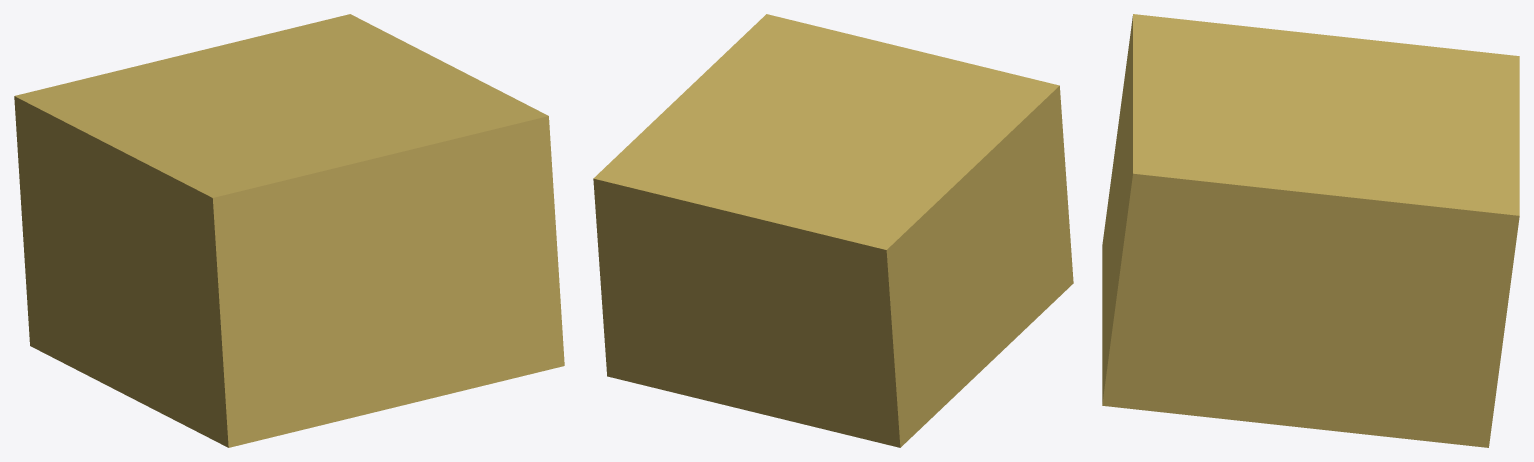
Rendered from yellow4.fbx.
3 renders of one model, left to right at view 1: azimuth 30°, elevation 25°; view 2: azimuth 150°, elevation 25°; view 3: azimuth 270°, elevation 25°, orthographic. The views are drawn at different scales.
Visible parts, largest first — view 1: Object_1; view 2: Object_1; view 3: Object_1.
Part boxes in pixels (x1=…): Object_1: x1=14, y1=14, x2=564, y2=447; Object_1: x1=593, y1=14, x2=1073, y2=447; Object_1: x1=1102, y1=14, x2=1519, y2=447.
Size of the model in its own units: 1.32 by 1.46 by 1.06.
